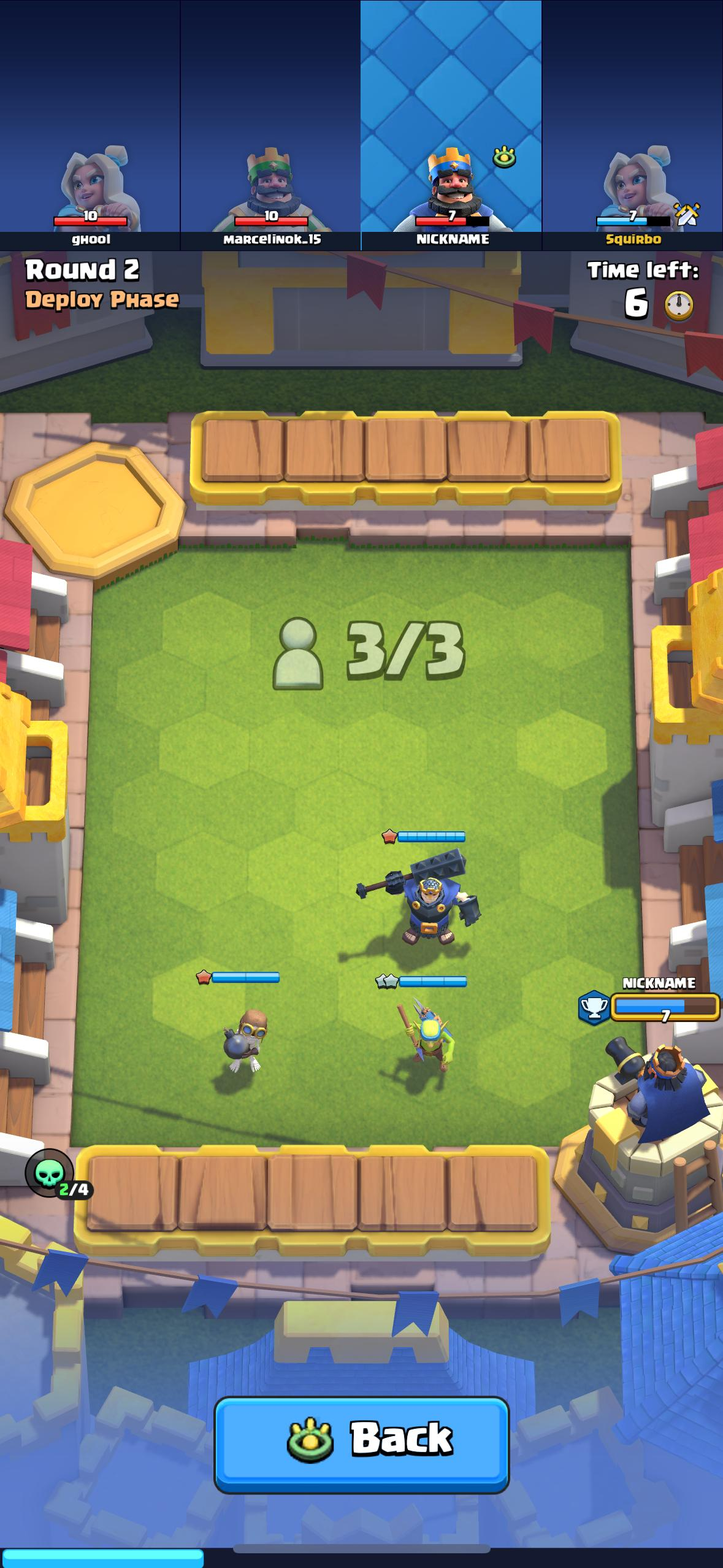bomber: (217, 1003, 273, 1075)
king: (377, 840, 482, 963)
spear: (389, 994, 457, 1068)
